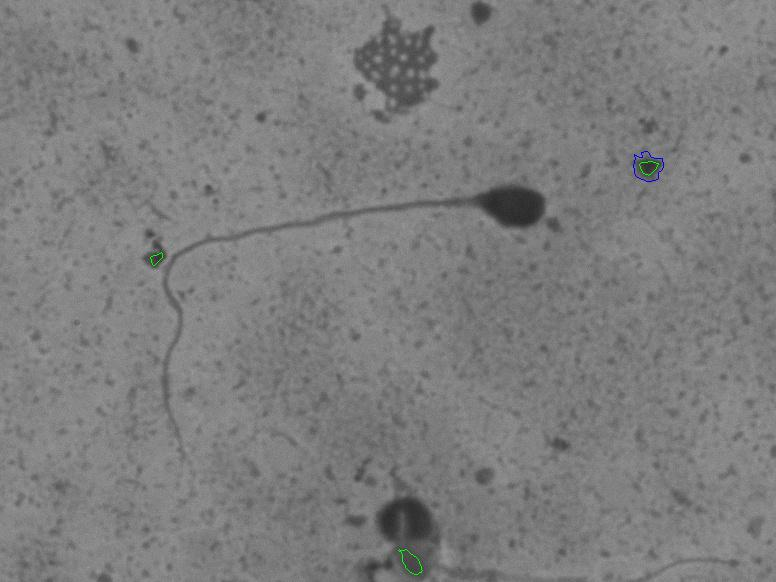Abnormal: (109, 159, 583, 476)
